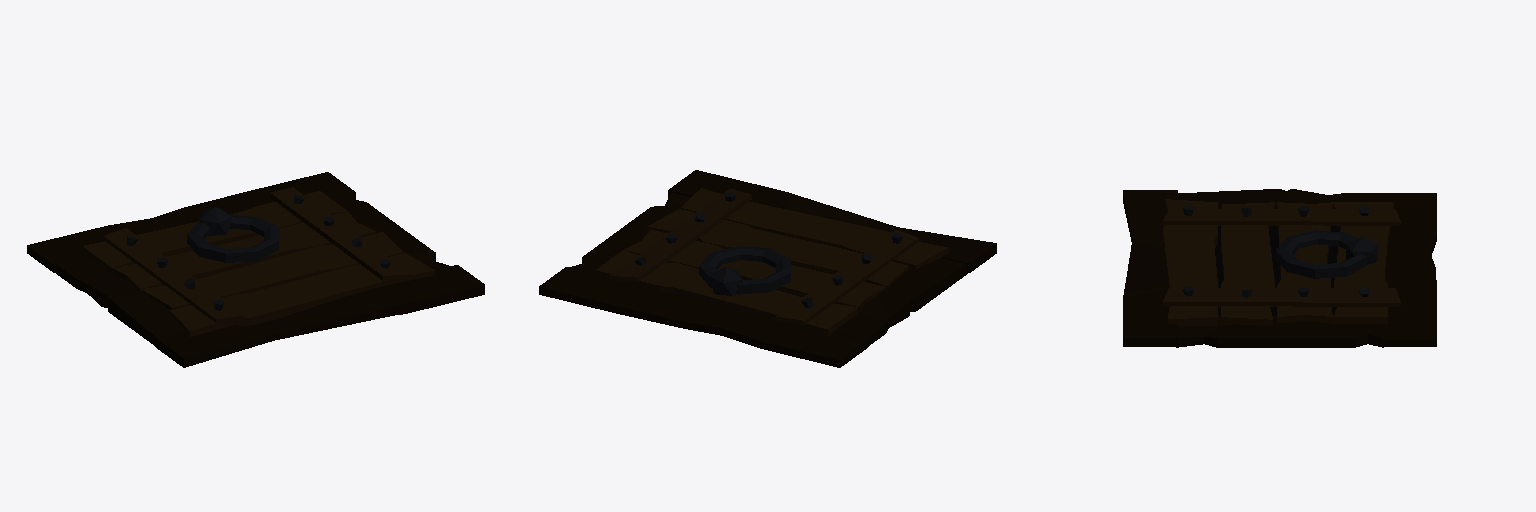
The model's file is Trapdoor.obj.
3 renders of one model, left to right at view 1: azimuth 30°, elevation 25°; view 2: azimuth 150°, elevation 25°; view 3: azimuth 270°, elevation 25°, orthographic.
Visible parts, largest first — view 1: Trapdoor; view 2: Trapdoor; view 3: Trapdoor.
Part boxes in pixels (x1,y1,x2,y2): Trapdoor: (27, 172, 484, 367); Trapdoor: (539, 170, 996, 367); Trapdoor: (1123, 189, 1436, 347).
Size of the model in its own units: 1.74 by 0.2151 by 1.57.